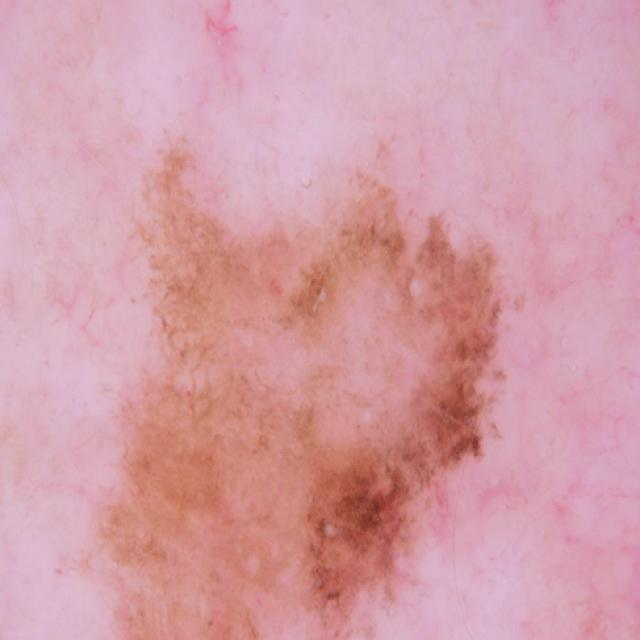Keratosis: (67, 108, 562, 640)
